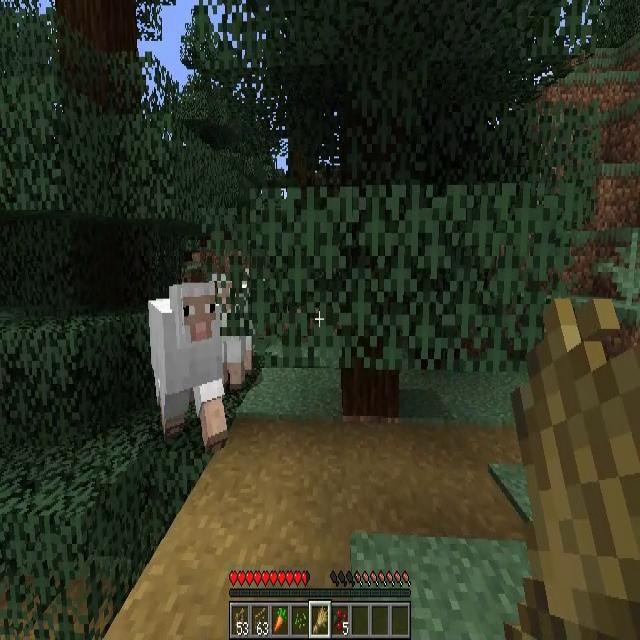sheep: (150, 282, 222, 449), (210, 272, 253, 388)
